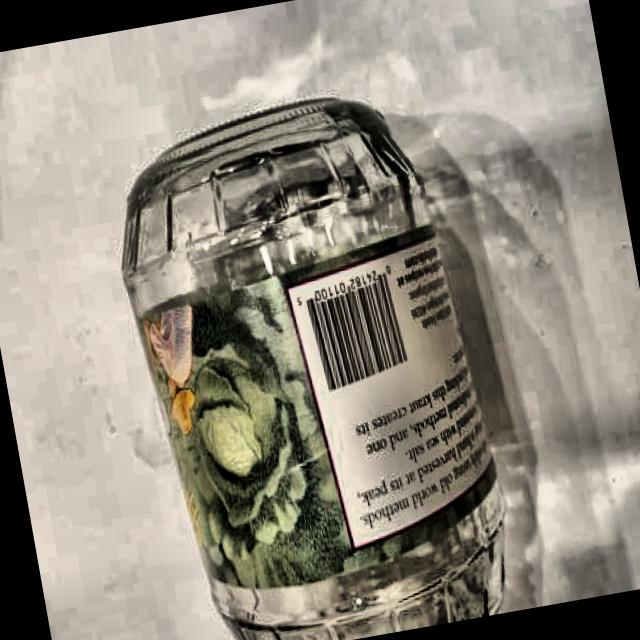glass: (94, 77, 524, 640)
